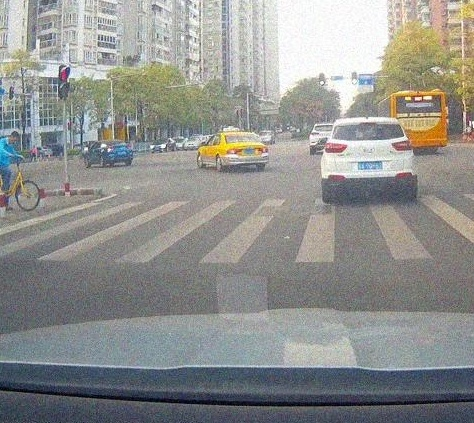L_light: (325, 142, 347, 153), (227, 148, 242, 154), (107, 145, 114, 149)
R_light: (391, 139, 412, 151), (257, 147, 268, 153), (127, 144, 131, 148)
T_light: (362, 123, 376, 126), (239, 134, 247, 136), (113, 141, 117, 142)
day-left: (223, 132, 268, 172)
day-no: (320, 117, 417, 202), (103, 140, 133, 167)
